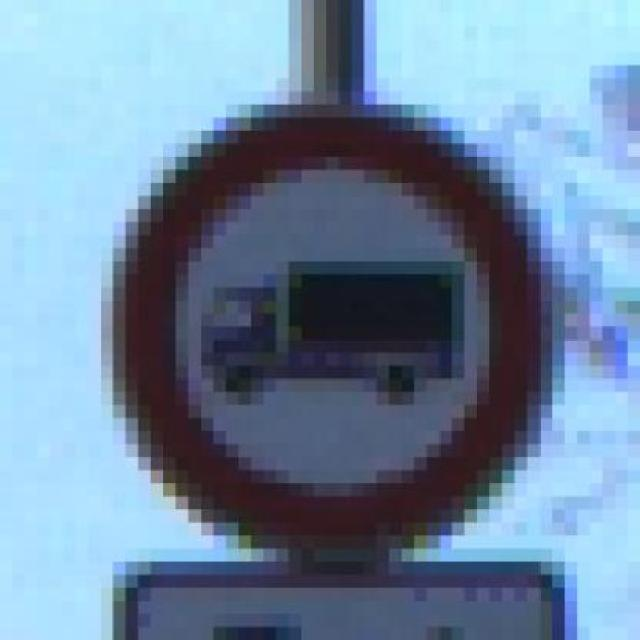Truck traffic is prohibited: (100, 65, 565, 562)
